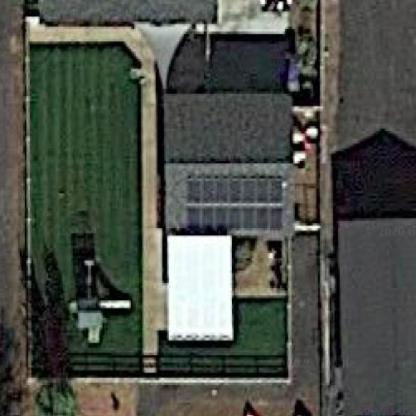solar_panel: (176, 171, 293, 239)
